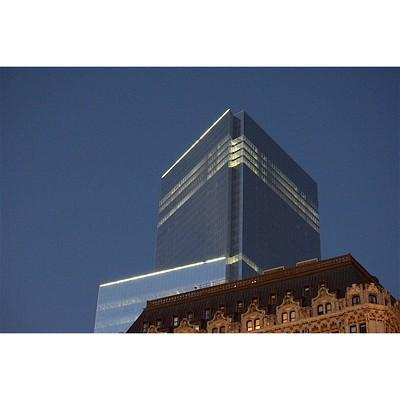building: (152, 102, 324, 332)
